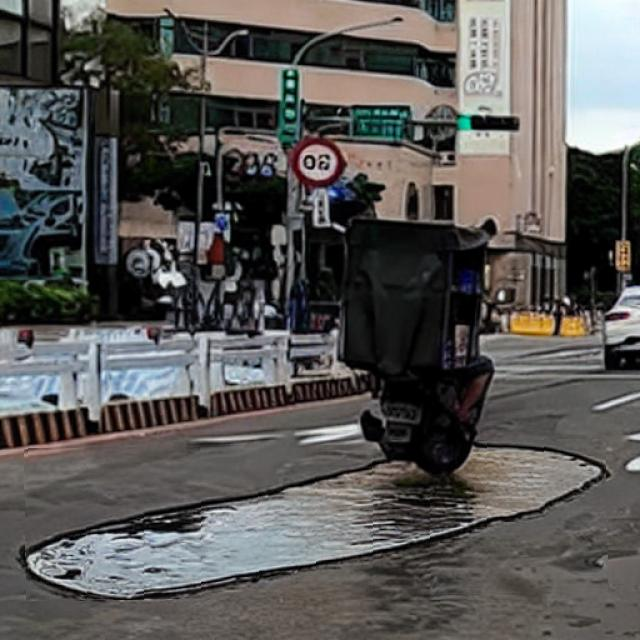puddle: (26, 441, 609, 600)
